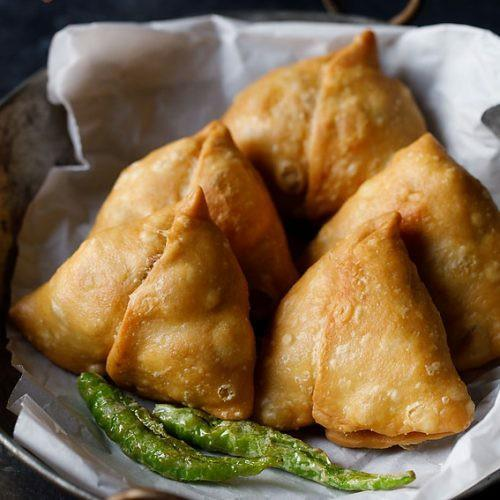Samosa: (5, 187, 254, 422), (243, 211, 477, 448), (294, 133, 500, 373), (220, 28, 432, 215), (102, 119, 295, 297)
